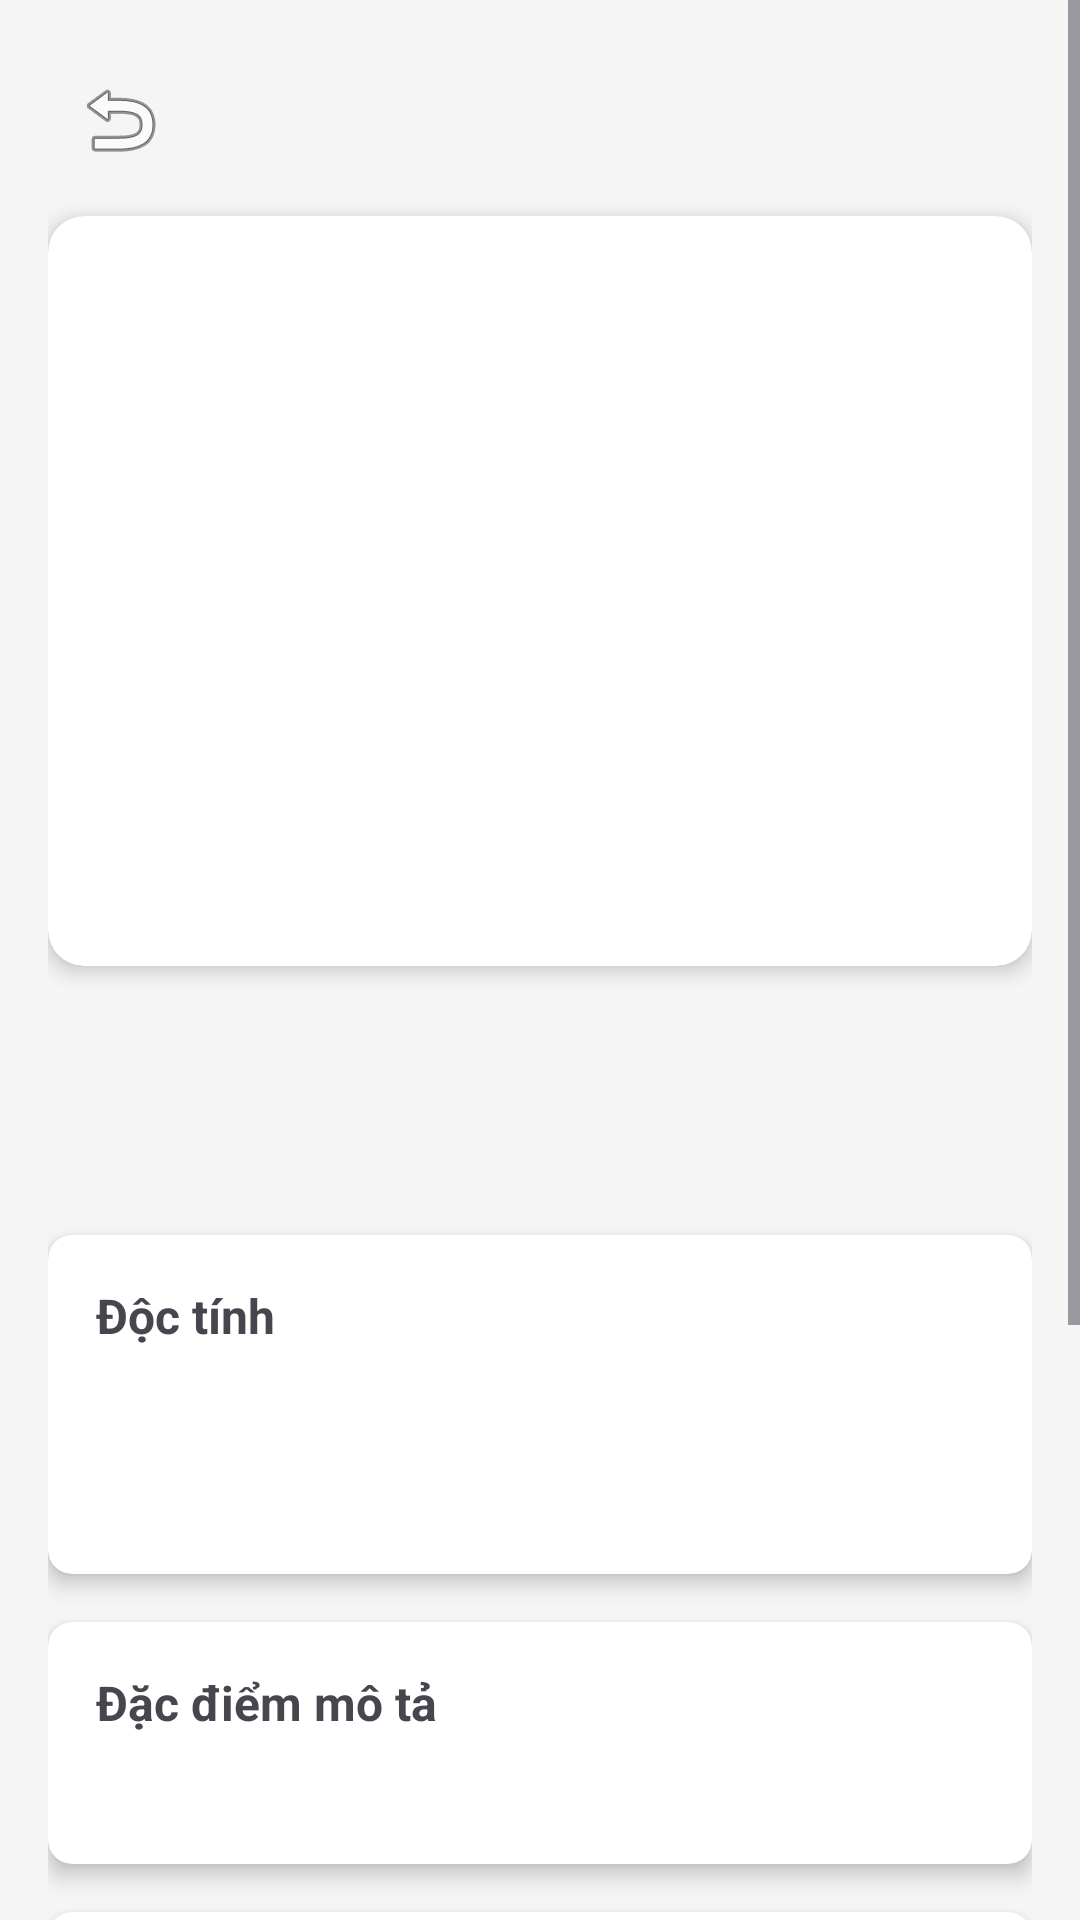

Icon click points for this 1080w x 1920h phone screenshot, format point (x, y):
Quay lại: point (121, 120)
